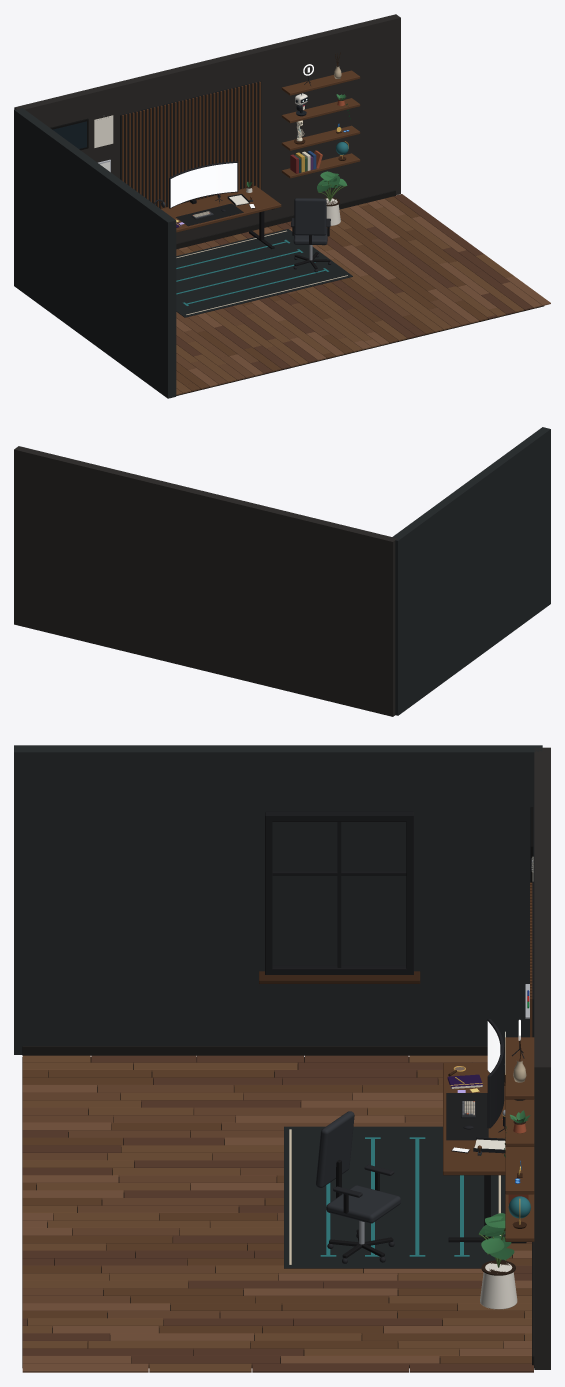
File: room.glb
The picture shows the model from 3 angles, top to bottom: view 1: azimuth 30°, elevation 25°; view 2: azimuth 150°, elevation 25°; view 3: azimuth 270°, elevation 25°; orthographic projection. The views are drawn at different scales.
Visible parts, largest first — view 1: wall_left, wall_back, slats, floor_0, rug, floor_1, floor_4, slat_felt, floor_3, floor_2, tex_screen, desk_top (+10 smaller); view 2: wall_back, wall_left; view 3: wall_left, floor_0, floor_4, floor_1, rug, floor_3, floor_2, wall_back, skirting_left, desk_top, chair_back, desk_mat (+14 smaller).
Part boxes in pixels (x1=…): wall_left: x1=14, y1=108, x2=176, y2=398; wall_back: x1=14, y1=14, x2=400, y2=243; slats: x1=122, y1=81, x2=260, y2=208; floor_0: x1=176, y1=203, x2=523, y2=395; rug: x1=176, y1=229, x2=352, y2=317; floor_1: x1=176, y1=196, x2=487, y2=391; floor_4: x1=176, y1=194, x2=532, y2=373; slat_felt: x1=120, y1=81, x2=261, y2=208; floor_3: x1=176, y1=238, x2=469, y2=384; floor_2: x1=176, y1=198, x2=550, y2=386; tex_screen: x1=170, y1=163, x2=237, y2=207; desk_top: x1=161, y1=185, x2=281, y2=232; wall_back: x1=14, y1=446, x2=397, y2=716; wall_left: x1=391, y1=427, x2=550, y2=715; wall_left: x1=14, y1=745, x2=542, y2=1054; floor_0: x1=22, y1=1055, x2=531, y2=1372; floor_4: x1=22, y1=1055, x2=533, y2=1372; floor_1: x1=22, y1=1070, x2=531, y2=1363; rug: x1=284, y1=1126, x2=506, y2=1268; floor_3: x1=22, y1=1085, x2=442, y2=1319; floor_2: x1=22, y1=1085, x2=531, y2=1372; wall_back: x1=534, y1=747, x2=550, y2=1369; skirting_left: x1=22, y1=1046, x2=504, y2=1055; desk_top: x1=443, y1=1063, x2=505, y2=1175; chair_back: x1=316, y1=1111, x2=354, y2=1188; desk_mat: x1=446, y1=1093, x2=488, y2=1140.
Size of the model in its own units: 6.87 by 3.03 by 4.83.
